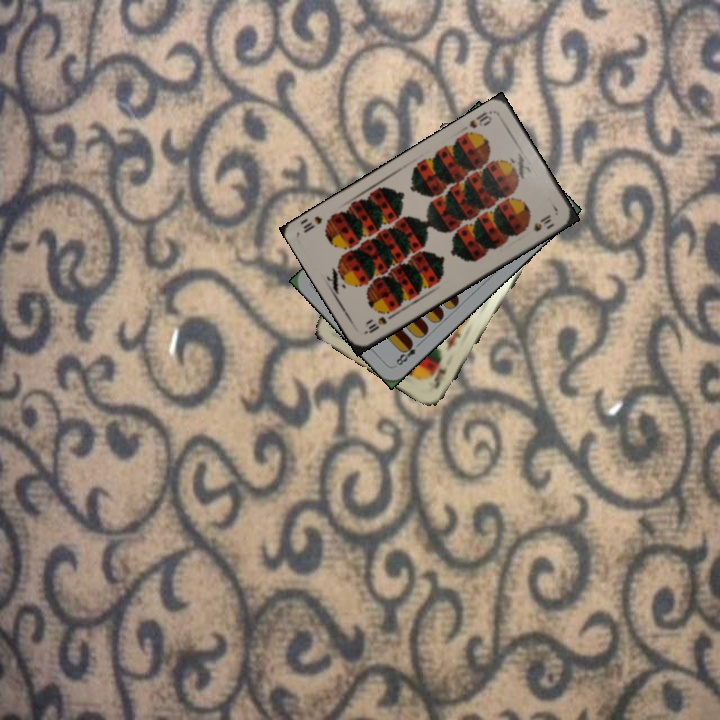E8: (392, 337, 424, 368)
S10: (361, 309, 398, 336), (465, 108, 495, 131)
SK: (432, 363, 450, 391)
